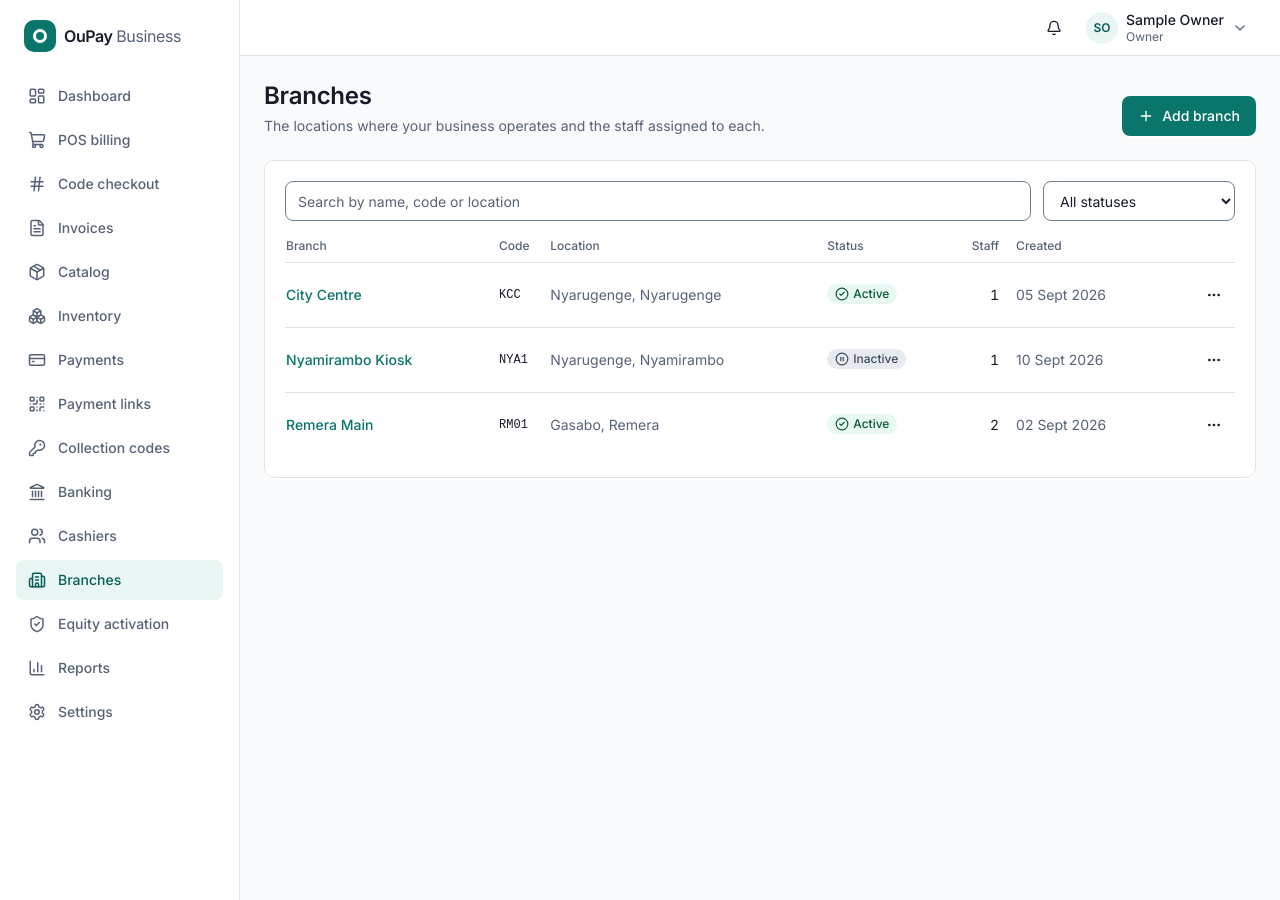
Test case: branch list › searches by name, code and location, and filters by status
expect the table is shown: met, box [285,237,1235,457]
Step 1. Type "kcc" into the search field named "Search branches" → (658, 201), box [285,181,1031,221]
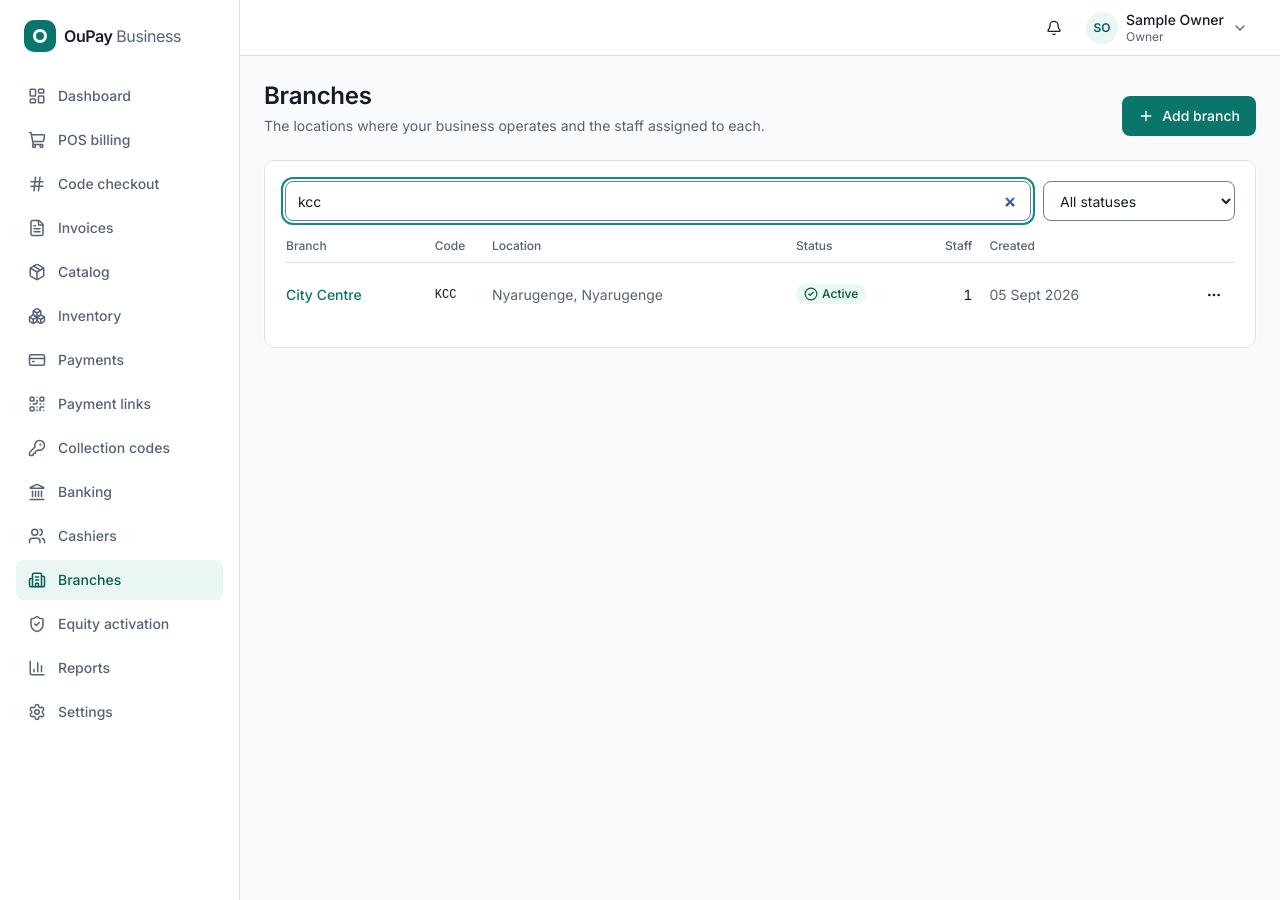
expect the number of rows is 2: met, box [285,237,1235,262]; [285,263,1235,327]
expect the link "City Centre" is shown: met, box [286,286,362,303]
Step 2. Clear the search field named "Search branches" → (658, 201), box [285,181,1031,221]
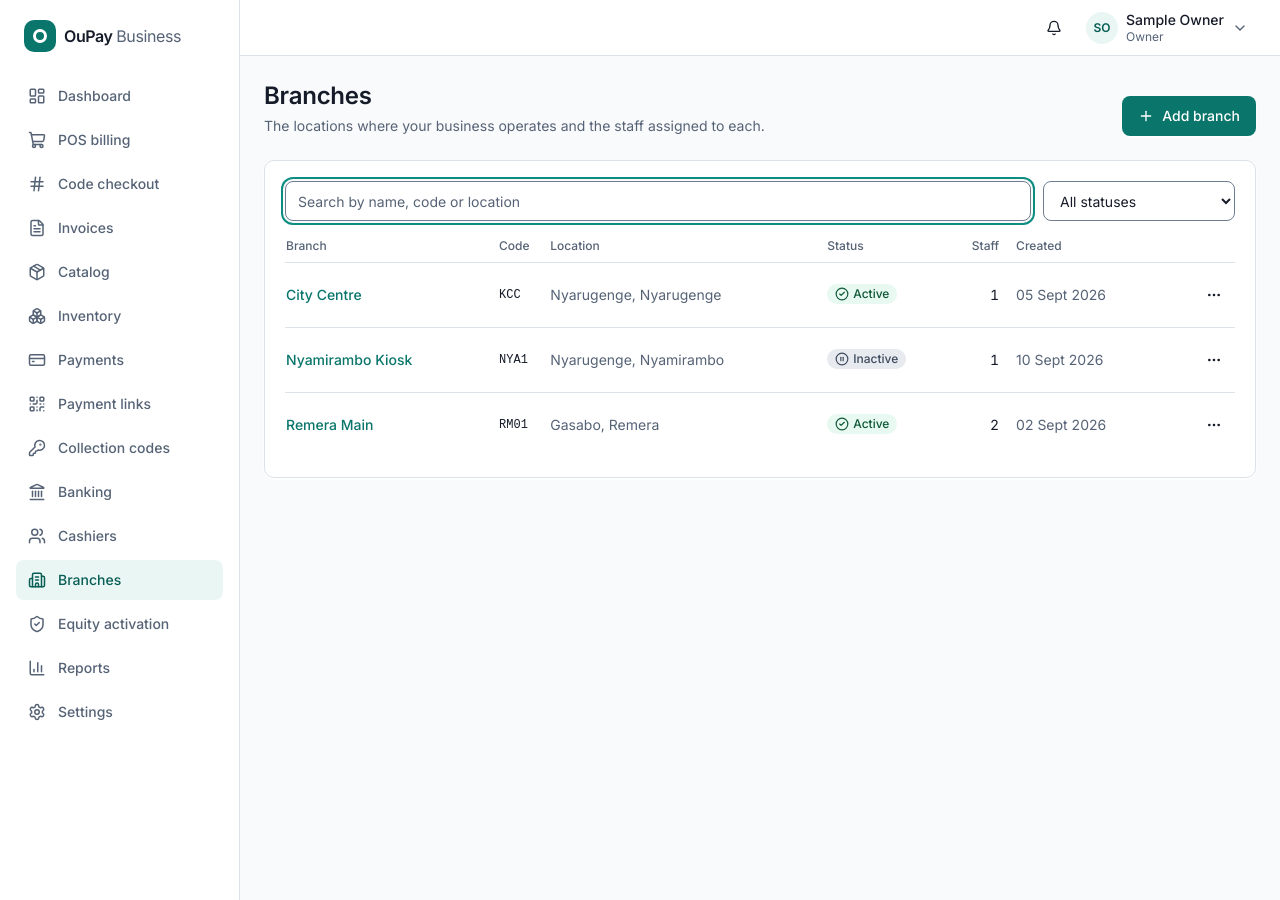
Step 3. Select "Inactive" in the dropdown named "Filter by status" → (1139, 201), box [1043,181,1235,221]
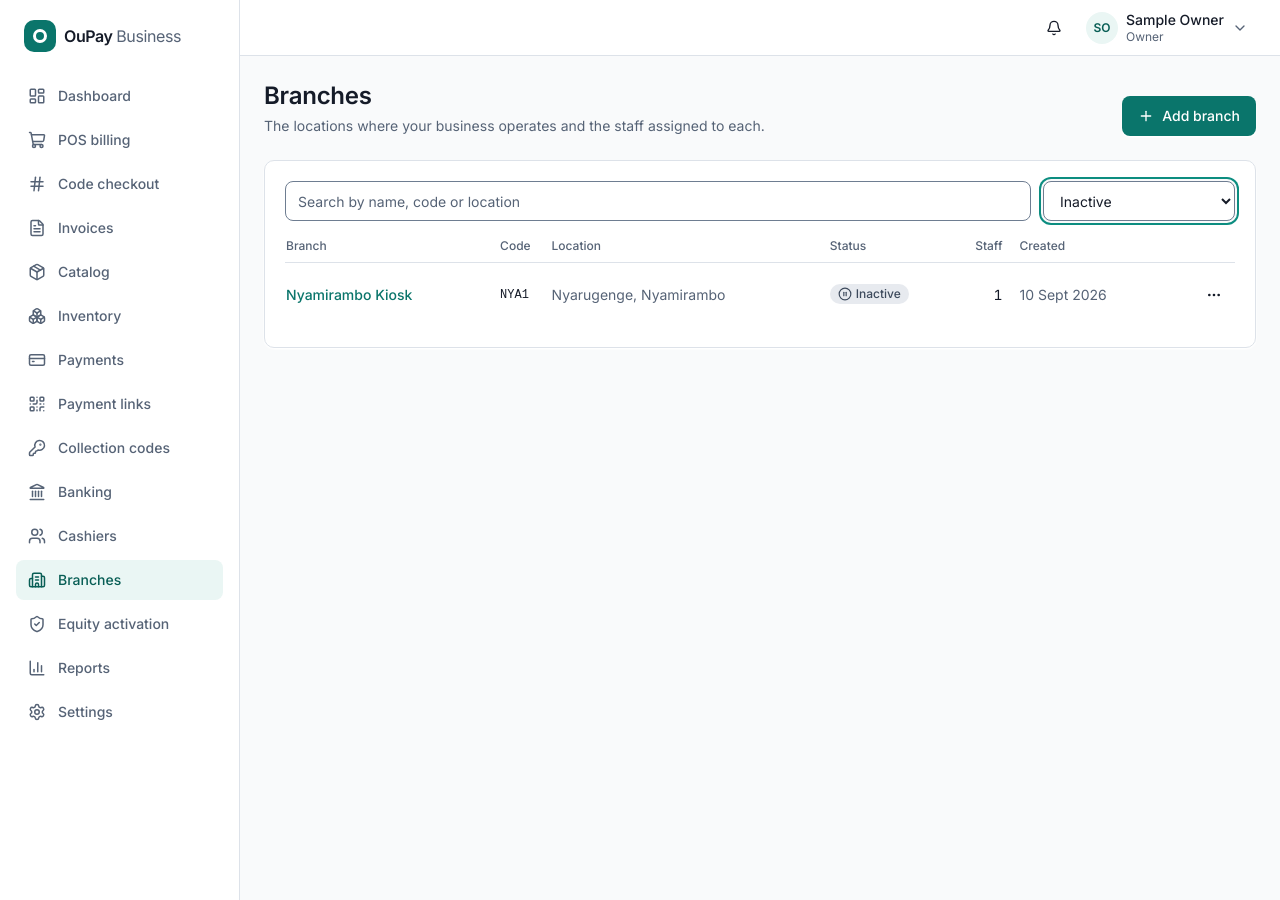
expect the link "Nyamirambo Kiosk" is shown: met, box [286,286,412,303]
expect the link "Remera Main" is gone: met
